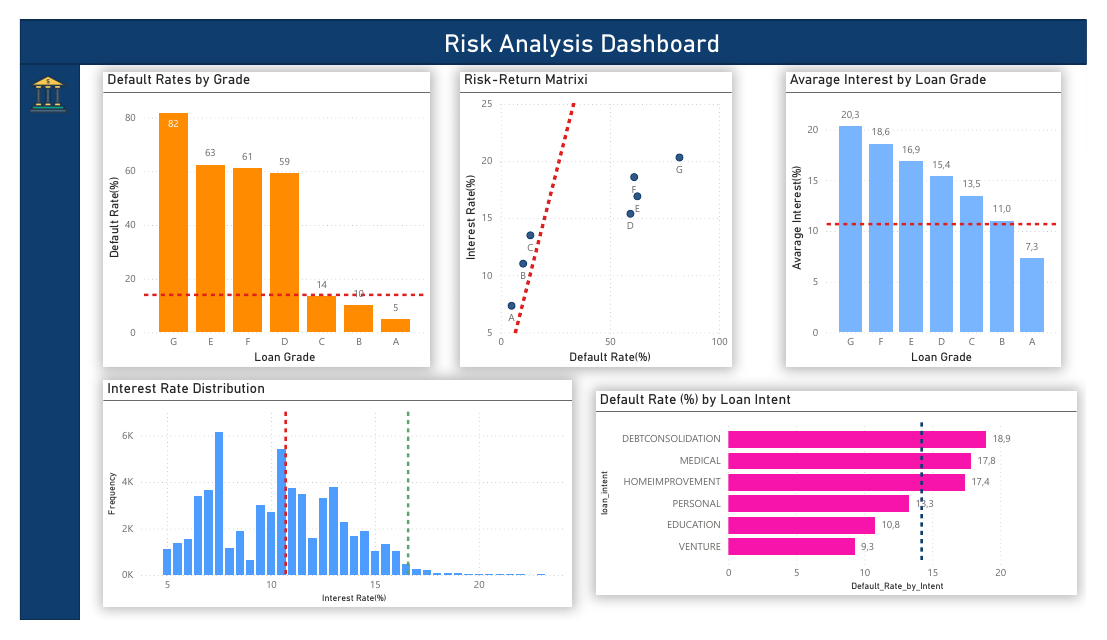

The page's visual inventory and layout, read from the dashboard file:
{"tool":"powerbi","page":{"name":"Risk Analysis","canvas":[1280,720],"ordinal":2},"visuals":[{"type":"shape","box":[0,0,1280,53.3],"z":0},{"type":"card","fields":{"Values":["sheet1.heading5"]},"box":[188.9,0,971.1,53.3],"z":1000},{"type":"shape","box":[0,53,72,667],"z":2000},{"type":"clusteredColumnChart","title":"Default Rates by Grade","fields":{"Category":["sheet1.loan_grade"],"Y":["sheet1.2Grade_Default_Rate"]},"box":[100,62,392,355],"z":3000},{"type":"clusteredColumnChart","title":"Avarage Interest by Loan Grade","fields":{"Category":["sheet1.loan_grade"],"Y":["sheet1.Grade_Avg_Interest"]},"box":[918.9,62.2,330,354.4],"z":4000},{"type":"scatterChart","title":"Risk-Return Matrixi","fields":{"X":["sheet1.2Grade_Default_Rate"],"Category":["sheet1.loan_grade"],"Y":["sheet1.Grade_Avg_Interest"]},"box":[527.8,62.2,326.7,354.4],"z":5000},{"type":"clusteredColumnChart","title":"Interest Rate Distribution","fields":{"Category":["sheet1.loan_int_rate (bins)"],"Y":["sheet1.Total Records"]},"box":[100,432,563,272],"z":6000},{"type":"clusteredBarChart","title":"Default Rate (%) by Loan Intent","fields":{"Category":["sheet1.loan_intent"],"Y":["sheet1.Default_Rate_by_Intent"]},"box":[691,445,577,245],"z":7000},{"type":"image","box":[0,62,68,54],"z":8000}]}

Visuals, with their boxes in screenshot pixels (x1, y1, x2, y2), scaled from the page's 1280x720 canvas onto the 1107x640 screenshot:
shape: box=[0, 0, 1106, 47]
card - sheet1.heading5: box=[163, 0, 1003, 47]
shape: box=[0, 47, 62, 639]
"Default Rates by Grade" clusteredColumnChart: box=[86, 55, 426, 371]
"Avarage Interest by Loan Grade" clusteredColumnChart: box=[795, 55, 1080, 370]
"Risk-Return Matrixi" scatterChart: box=[456, 55, 739, 370]
"Interest Rate Distribution" clusteredColumnChart: box=[86, 384, 573, 626]
"Default Rate (%) by Loan Intent" clusteredBarChart: box=[598, 396, 1097, 613]
image: box=[0, 55, 59, 103]
